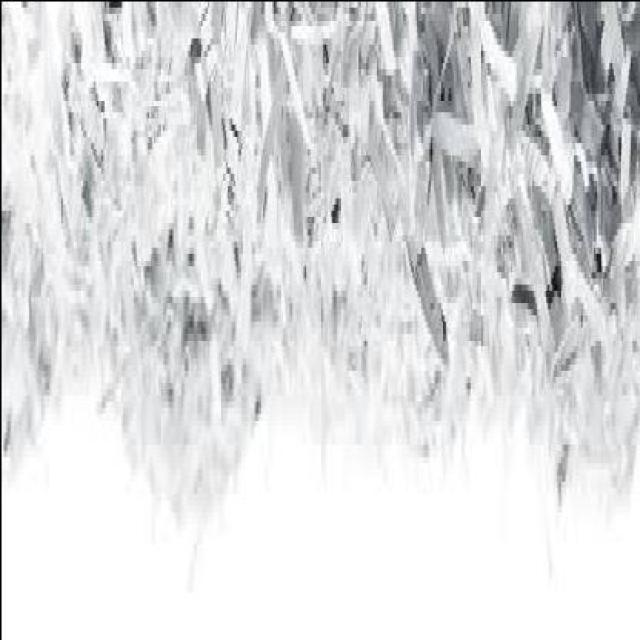PAPER: (1, 6, 638, 543)
